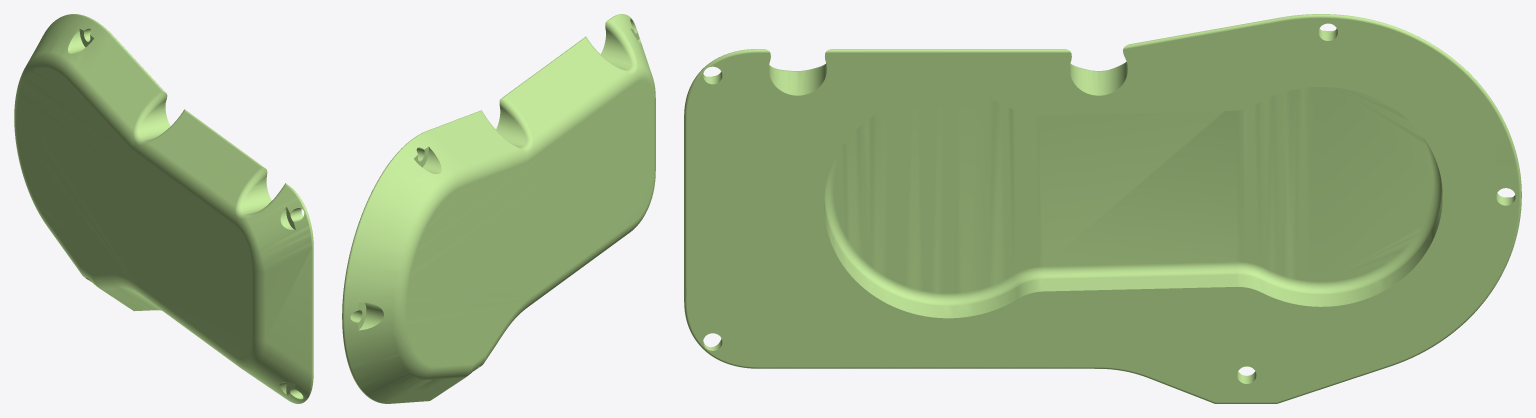
File: Main_CaseOutside_1.dae
The picture shows the model from 3 angles, left to right: view 1: azimuth 30°, elevation 25°; view 2: azimuth 150°, elevation 25°; view 3: azimuth 270°, elevation 25°; orthographic projection. The views are drawn at different scales.
Parts seen in each view (by area): view 1: Main_CaseOutside_1; view 2: Main_CaseOutside_1; view 3: Main_CaseOutside_1.
Boxes of the visible parts, <box> form: Main_CaseOutside_1: <box>14,14,313,403</box>; Main_CaseOutside_1: <box>342,14,655,403</box>; Main_CaseOutside_1: <box>684,14,1521,403</box>.
Size of the model in its own units: 0.007 by 0.0863 by 0.0443.
